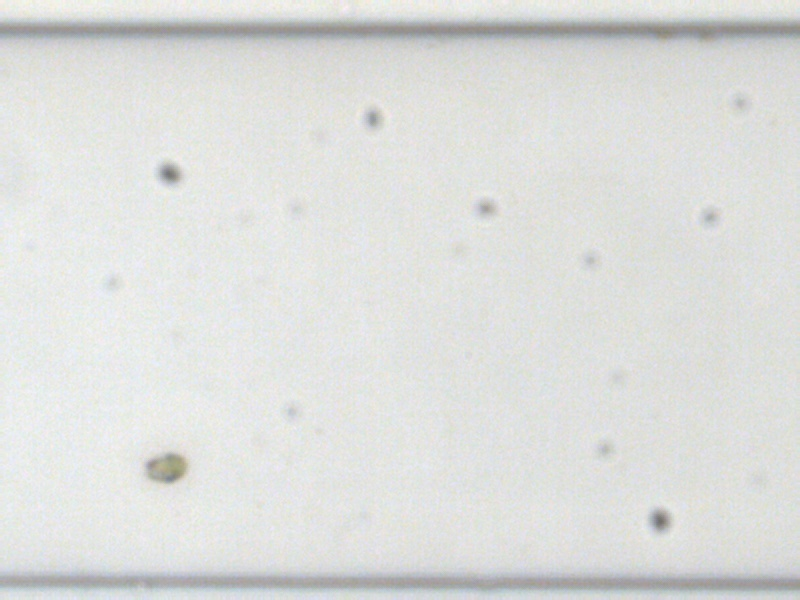Dunaliella salina: (142, 448, 188, 485)
